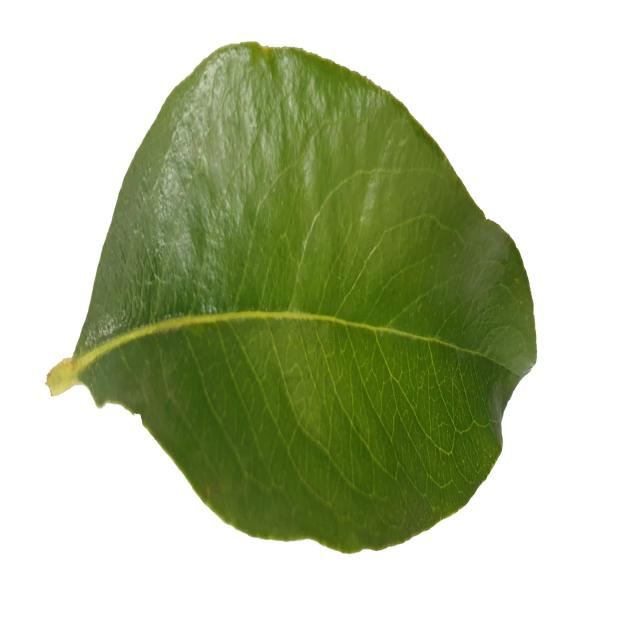Medicinal-Sandalwood: (46, 39, 537, 554)
